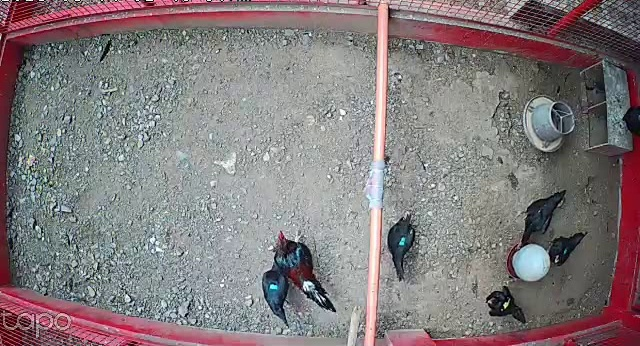Chicken: (517, 188, 570, 250), (258, 252, 291, 328), (387, 207, 420, 279), (547, 226, 588, 267), (486, 287, 527, 325)
Rooster: (268, 223, 340, 310)
Saddle_Color_Blue: (268, 282, 278, 291)
Saddle_Color_Yellow: (502, 299, 511, 310)
